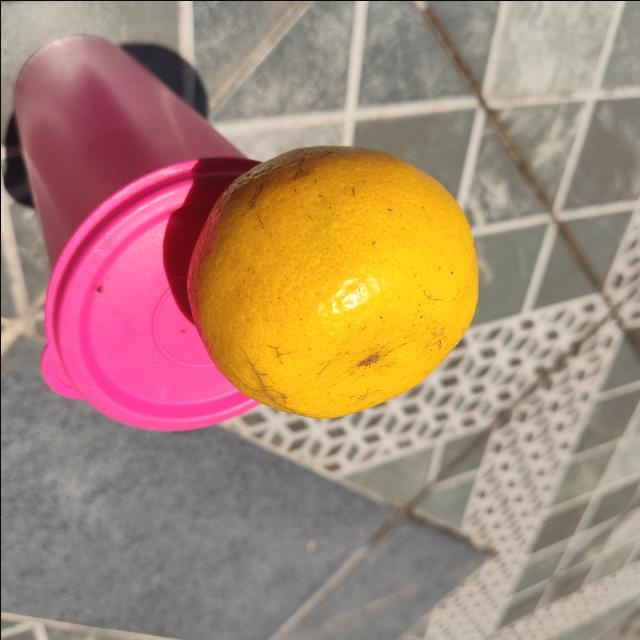agrume: (186, 145, 478, 420)
